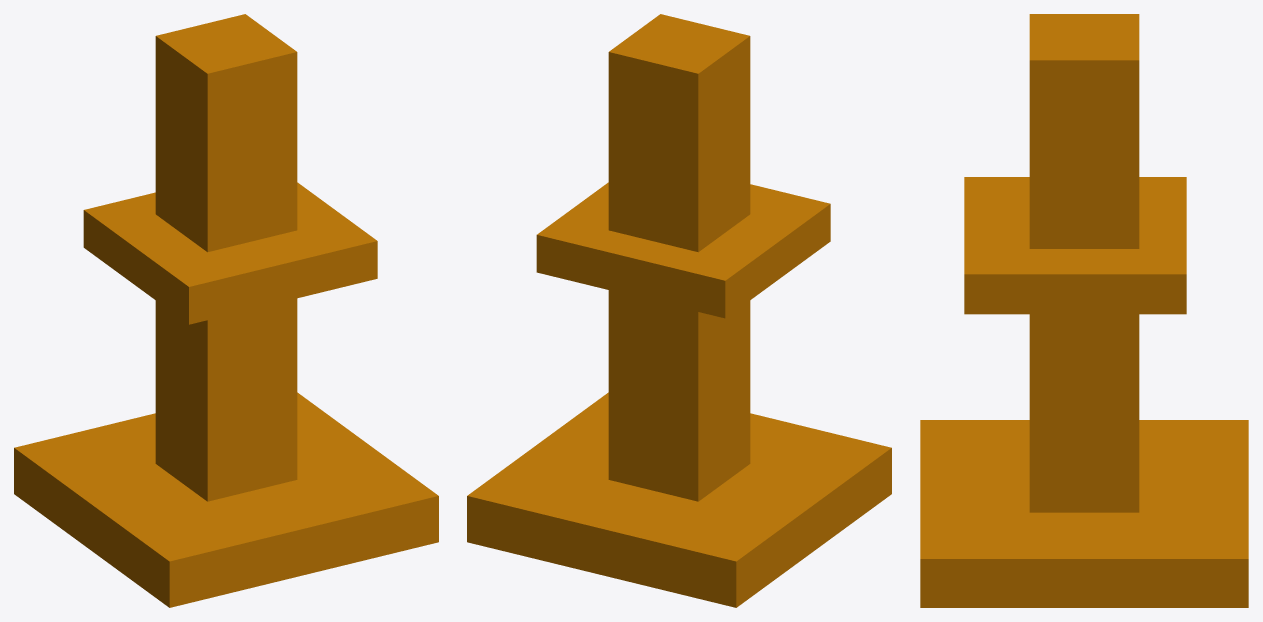
The model's file is player2.obj.
The picture shows the model from 3 angles, left to right: view 1: azimuth 30°, elevation 25°; view 2: azimuth 150°, elevation 25°; view 3: azimuth 270°, elevation 25°; orthographic projection. The views are drawn at different scales.
Visible parts, largest first — view 1: Cube.001; view 2: Cube.001; view 3: Cube.001.
Boxes of the visible parts, bbox=[...] form: Cube.001: bbox=[14, 14, 438, 607]; Cube.001: bbox=[467, 14, 891, 607]; Cube.001: bbox=[920, 14, 1248, 607].
Bounding box in the file's own units: 0.5764 × 0.9703 × 0.5764.
